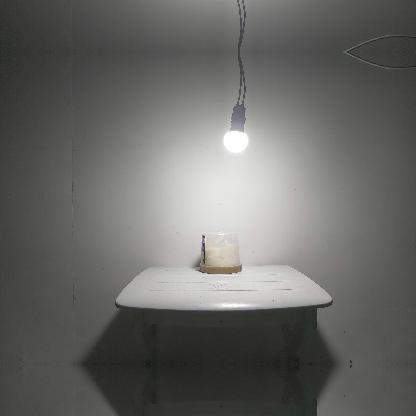Lady-s-Choice: (198, 228, 242, 274)
